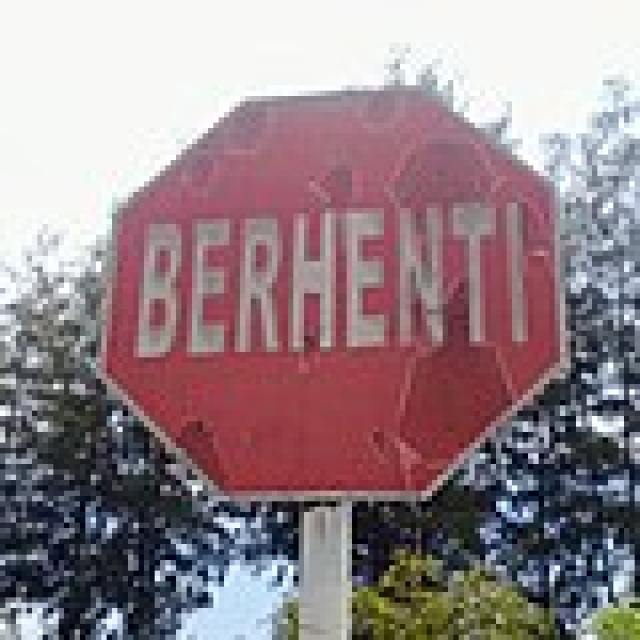stop-sign: (71, 47, 576, 542)
